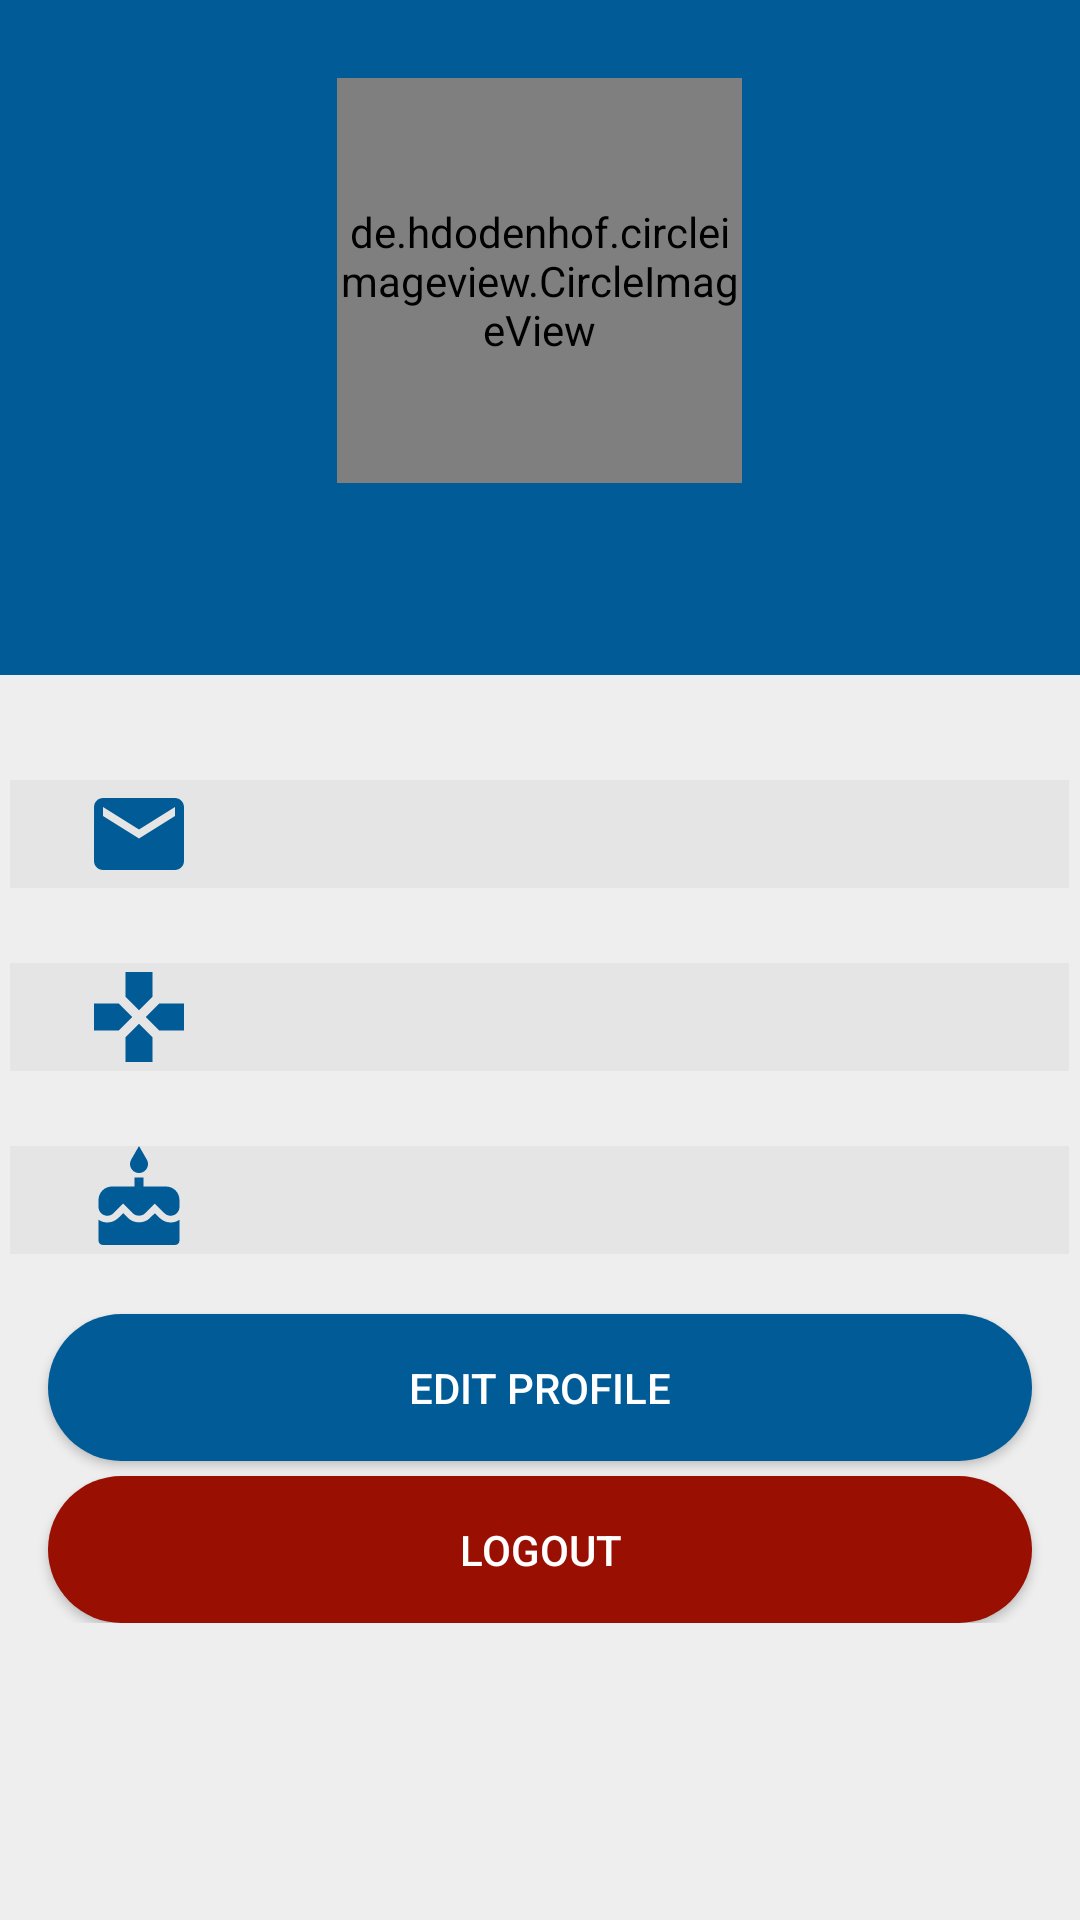

Where icons sit on this 1080 x 1920 app screen, as [left=x1, top=y1, right=x2, bottom=y2]:
cake: [left=98, top=1146, right=180, bottom=1245]
email: [left=94, top=798, right=184, bottom=870]
games: [left=94, top=972, right=184, bottom=1062]
